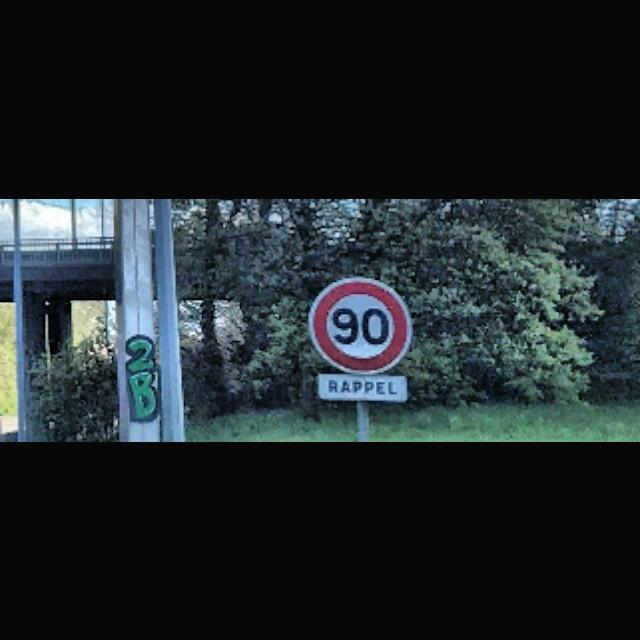speed_90: (308, 275, 414, 375)
